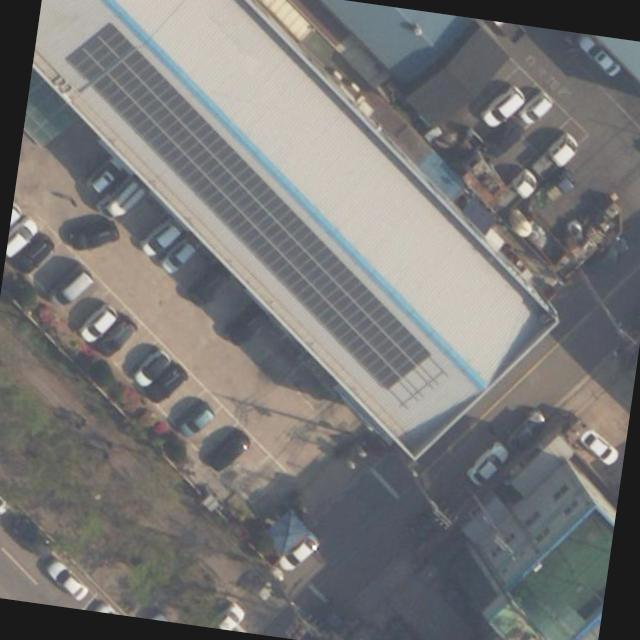solar: (23, 16, 475, 399)
